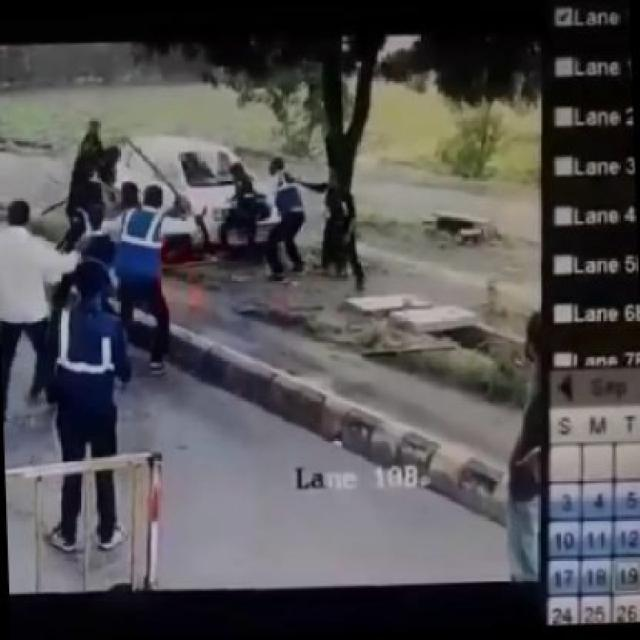fight: (3, 118, 184, 394)
non-fight: (56, 259, 129, 555), (287, 165, 372, 292), (252, 152, 312, 280), (222, 158, 265, 268)
